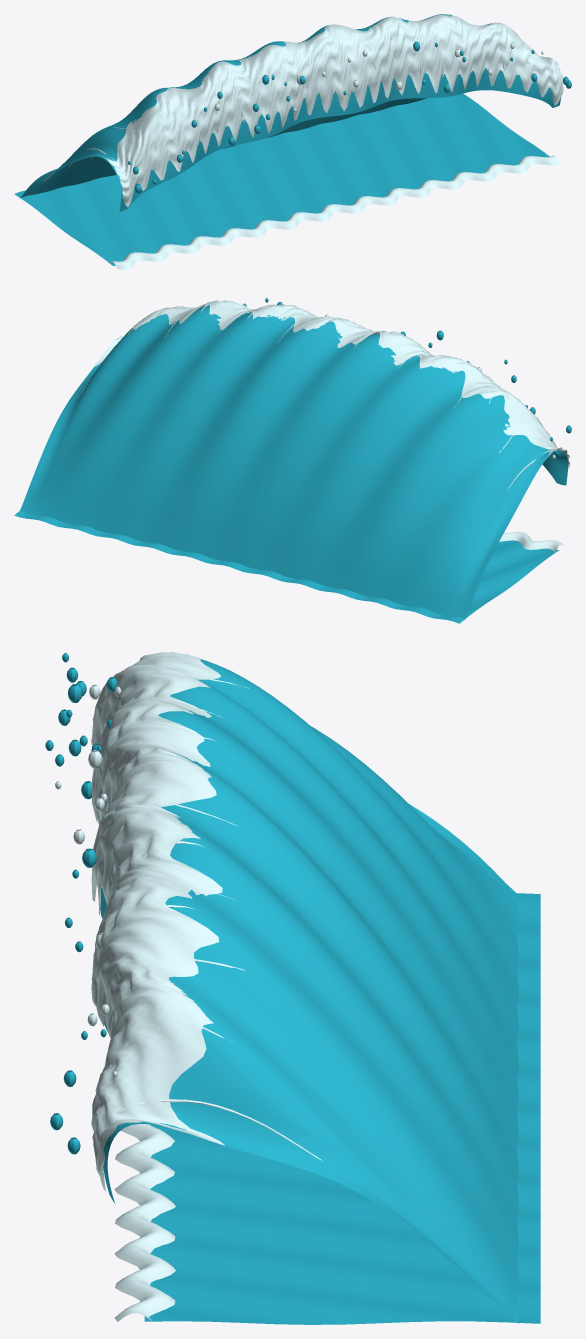
Rendered from naia-ultimate-wave.glb.
3 views of the same model, one above another, from view 1: azimuth 30°, elevation 25°; view 2: azimuth 150°, elevation 25°; view 3: azimuth 270°, elevation 25° (orthographic). The views are drawn at different scales.
Parts seen in each view (by area): view 1: Shallow trailing water sheet, Scalloped breaking whitewater, Continuous curling aqua water wall, Broken front foam skirt; view 2: Continuous curling aqua water wall, Scalloped breaking whitewater, Shallow trailing water sheet, Broken front foam skirt; view 3: Continuous curling aqua water wall, Shallow trailing water sheet, Scalloped breaking whitewater, Broken front foam skirt.
Part boxes in pixels (x1,y1,x2,y2): Shallow trailing water sheet: (14, 93, 549, 265); Scalloped breaking whitewater: (105, 14, 563, 207); Continuous curling aqua water wall: (20, 14, 560, 211); Broken front foam skirt: (109, 155, 558, 269); Continuous curling aqua water wall: (20, 305, 568, 619); Scalloped breaking whitewater: (94, 300, 569, 468); Shallow trailing water sheet: (14, 511, 559, 623); Broken front foam skirt: (499, 532, 563, 552); Continuous curling aqua water wall: (100, 659, 518, 1323); Shallow trailing water sheet: (144, 893, 540, 1324); Scalloped breaking whitewater: (91, 652, 225, 1191); Broken front foam skirt: (114, 1124, 175, 1321).
Size of the model in its own units: 10.03 by 3.9 by 4.88.
